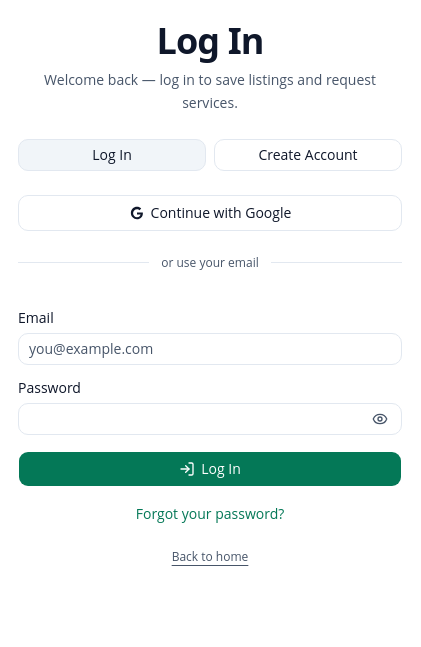
Test case: LoginRegisterPage — email + password login › distinguishes a network failure from a wrong password
Expected: the heading "Log In" is shown, [156,16,264,65]
Type "a@b.co" into the field labelled "Email".
click(210, 348); type("a@b.co")  # box [18,332,402,364]
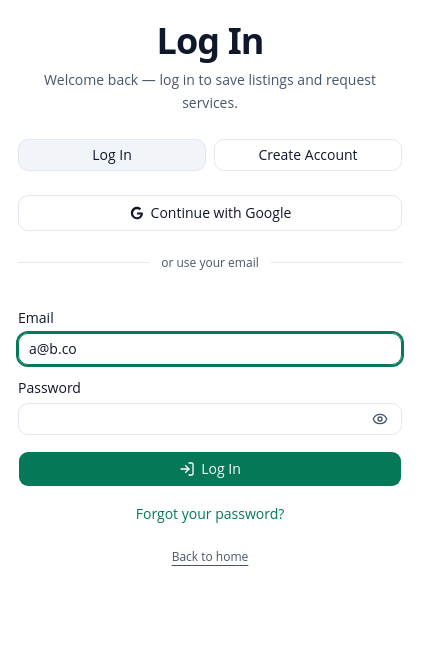
Type "some password" into the password field labelled "Password".
click(210, 418); type("some password")  # box [18,402,402,434]
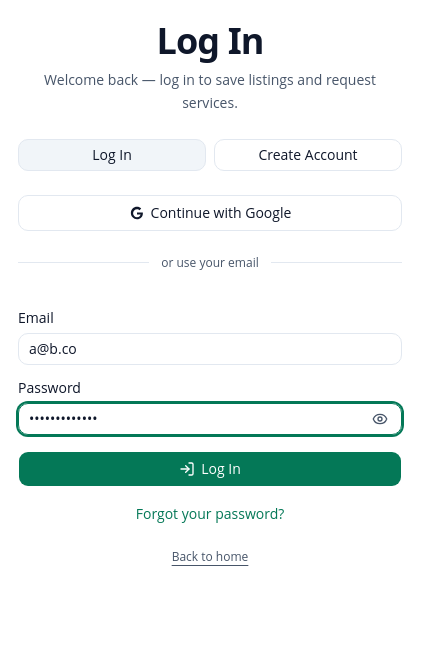
Click the button "Log In".
click(210, 468)  # box [18,450,402,486]
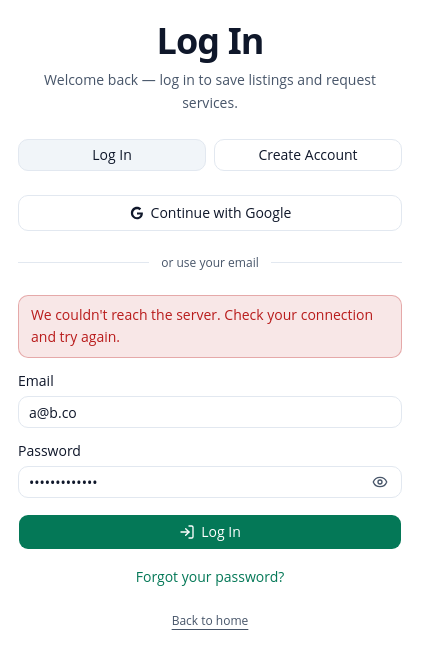
Expected: the text "couldn't reach the server" is shown, [31,304,373,346]
